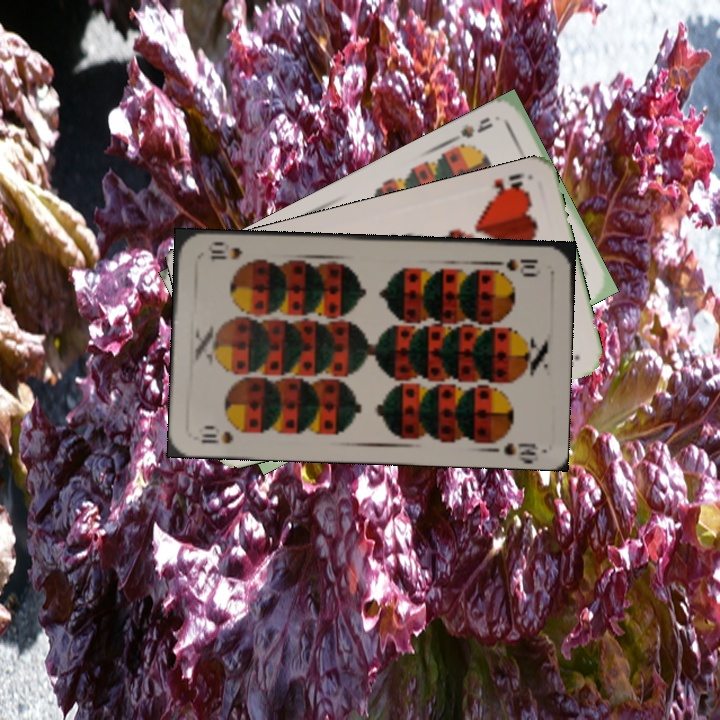HO: (489, 169, 532, 201)
S10: (489, 254, 543, 275), (197, 427, 236, 446)
S9: (445, 113, 496, 154)
